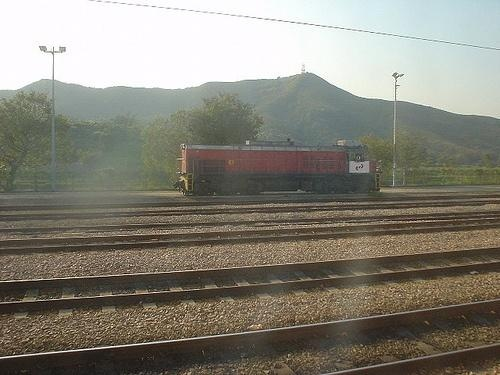train: (173, 138, 383, 196)
